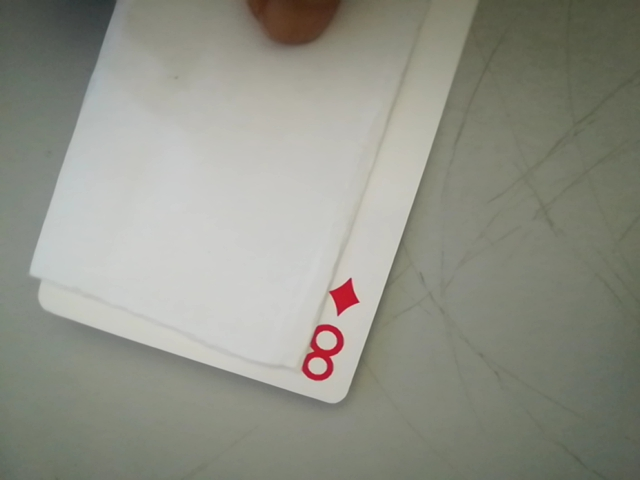fk 8: (292, 274, 366, 396)
